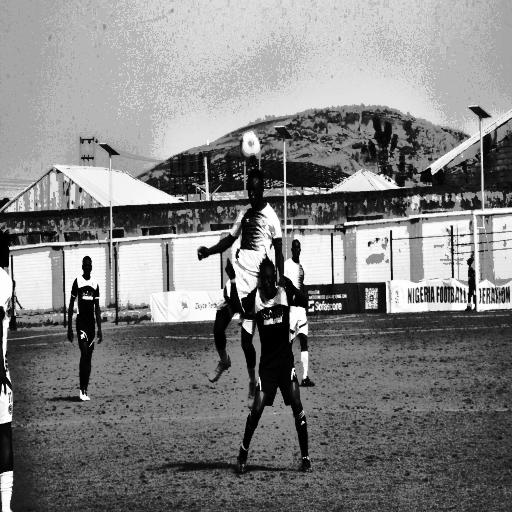ball: (237, 120, 262, 166)
team1: (206, 169, 286, 405), (1, 212, 30, 512), (287, 231, 322, 386)
team2: (238, 265, 316, 474), (64, 240, 114, 401)
